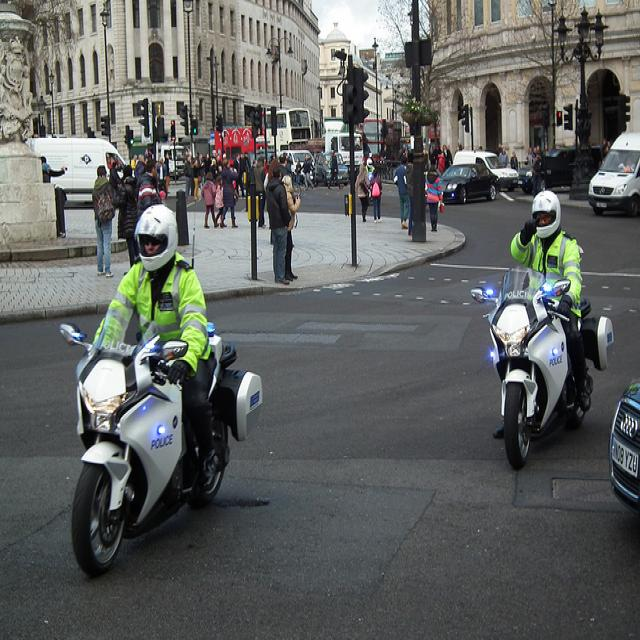motor: (59, 318, 263, 579), (471, 265, 615, 471)
